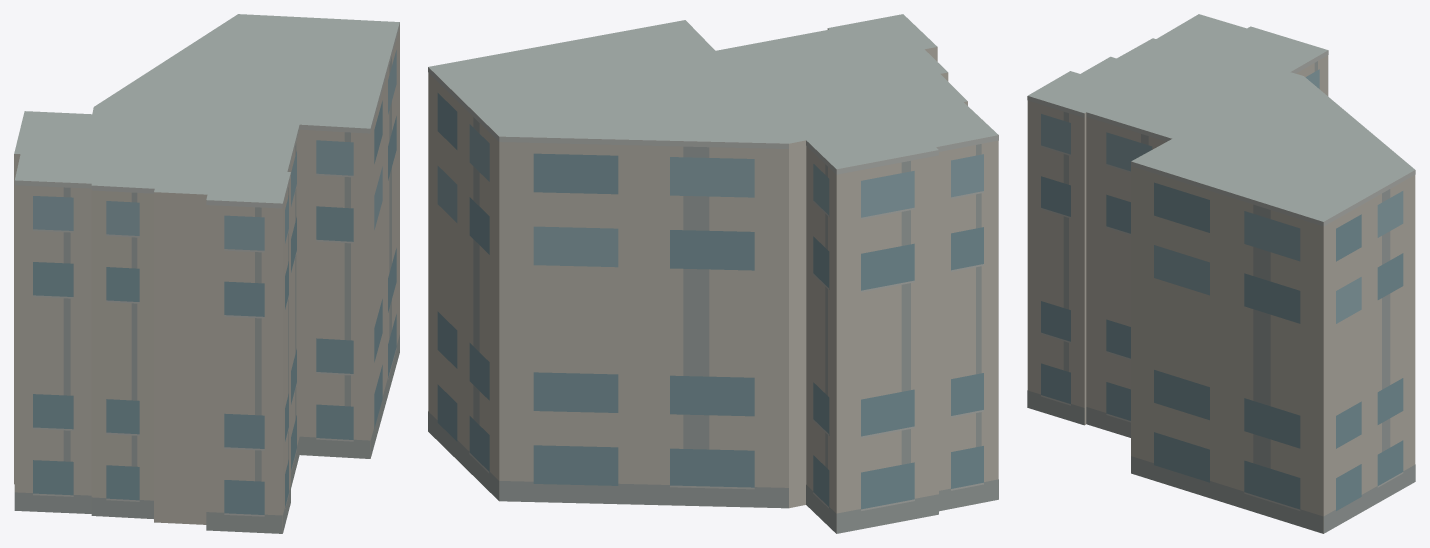
File: survey-upis-33021253.glb
3 views of the same model, side by side, from view 1: azimuth 30°, elevation 25°; view 2: azimuth 150°, elevation 25°; view 3: azimuth 270°, elevation 25° (orthographic). The views are drawn at different scales.
Parts seen in each view (by area): view 1: survey-upis-33021253.tmp; view 2: survey-upis-33021253.tmp; view 3: survey-upis-33021253.tmp.
Boxes of the visible parts, <box> form: survey-upis-33021253.tmp: <box>14,14,399,533</box>; survey-upis-33021253.tmp: <box>428,14,998,533</box>; survey-upis-33021253.tmp: <box>1027,14,1415,533</box>.
Bounding box in the file's own units: 23.3 × 16.3 × 18.38.
